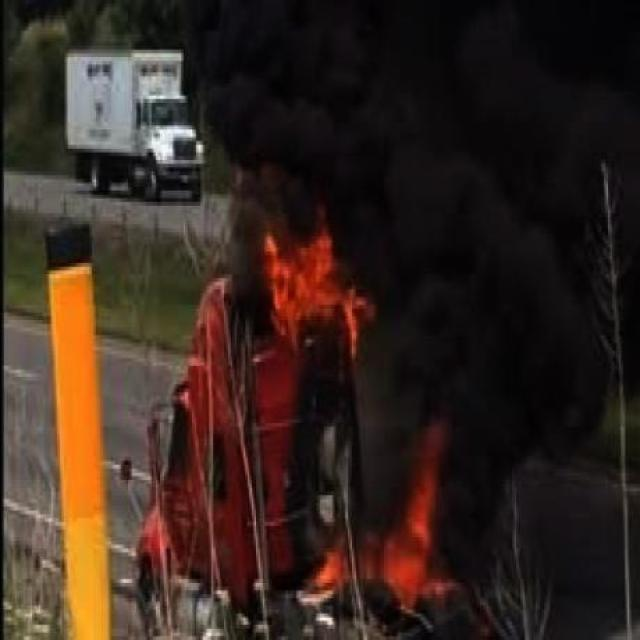Fire: (308, 461, 444, 608), (266, 226, 366, 345)
Smoke: (175, 0, 639, 218), (388, 213, 640, 471)
